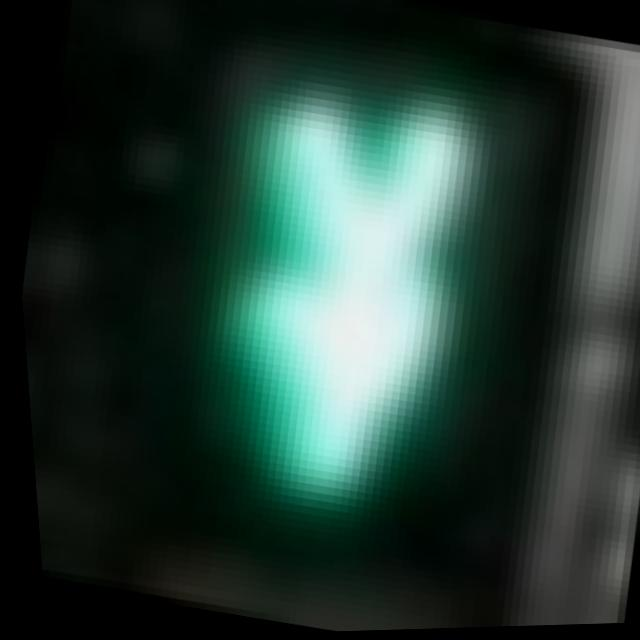green_light: (159, 82, 529, 568)
